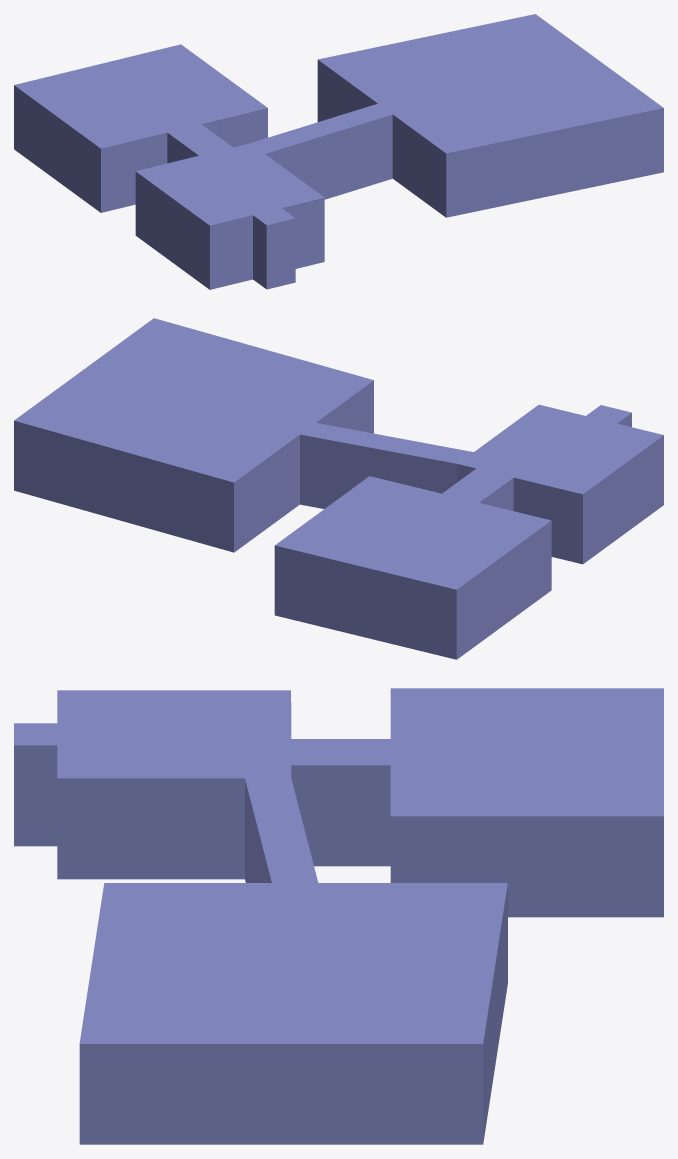
Rendered from Diseño nivel 2.fbx.
3 views of the same model, one above another, from view 1: azimuth 30°, elevation 25°; view 2: azimuth 150°, elevation 25°; view 3: azimuth 270°, elevation 25° (orthographic). The views are drawn at different scales.
Visible parts, largest first — view 1: Escenario.001, Escenario; view 2: Escenario.001, Escenario; view 3: Escenario.001, Escenario.
Part boxes in pixels (x1,y1,x2,y2): Escenario.001: [14, 14, 663, 225]; Escenario: [14, 60, 663, 289]; Escenario.001: [14, 318, 663, 589]; Escenario: [14, 380, 663, 659]; Escenario.001: [14, 688, 663, 1043]; Escenario: [14, 745, 663, 1144].
Size of the model in its own units: 2312 by 306 by 1786.
